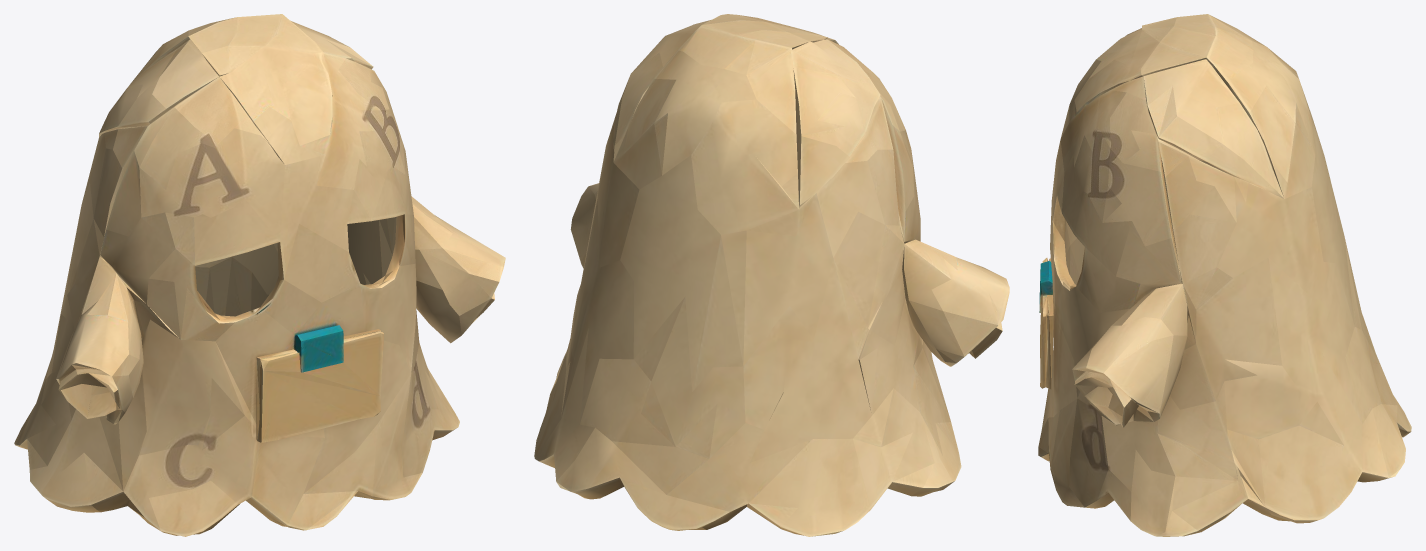
The model's file is papel-fantasma.glb.
3 renders of one model, left to right at view 1: azimuth 30°, elevation 25°; view 2: azimuth 150°, elevation 25°; view 3: azimuth 270°, elevation 25°, orthographic. The views are drawn at different scales.
Parts seen in each view (by area): view 1: Mesh_0; view 2: Mesh_0; view 3: Mesh_0.
Part boxes in pixels (x1,y1,x2,y2): Mesh_0: (14,14,505,536); Mesh_0: (534,14,1009,536); Mesh_0: (1038,14,1411,536).
Bounding box in the file's own units: 1.9 × 1.84 × 1.45.
Materials: 1 (1 with a texture image).
